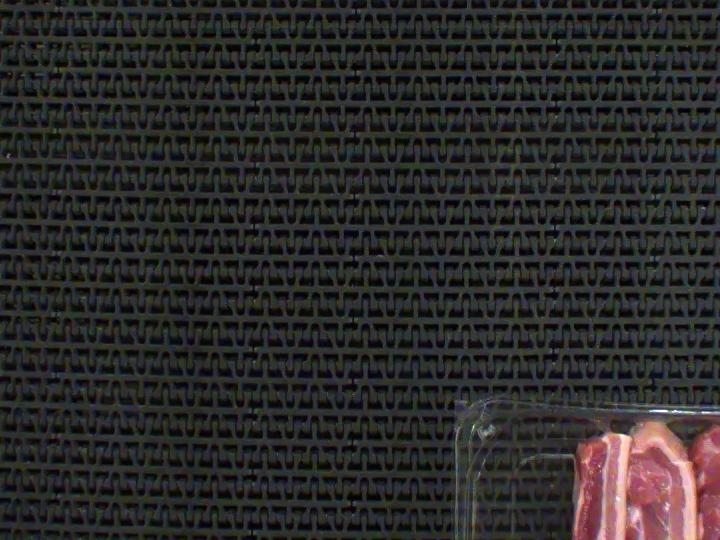packaging-error: (586, 412, 620, 444)
